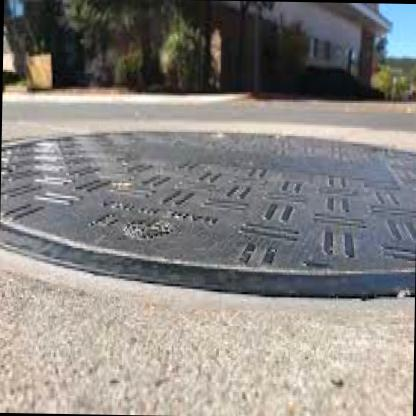manholes: (0, 76, 416, 383)
